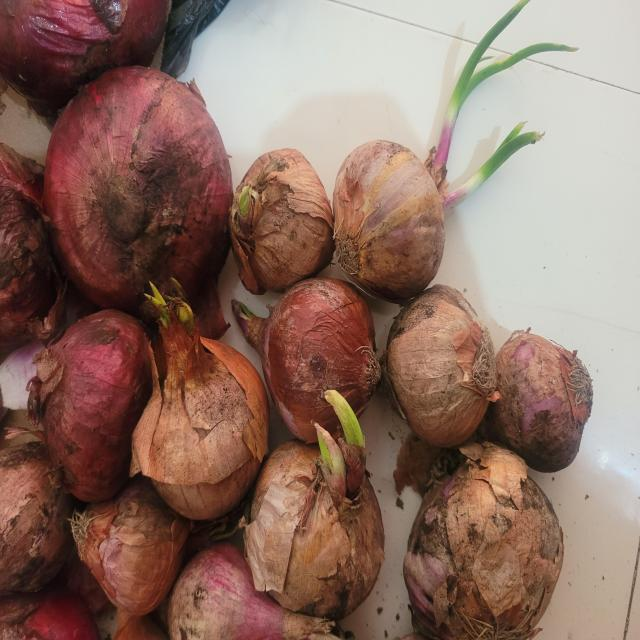rotten: (44, 67, 233, 314), (130, 280, 269, 519), (403, 442, 564, 640), (244, 418, 384, 618), (232, 277, 380, 442), (29, 310, 152, 501), (0, 0, 169, 117), (381, 284, 500, 447), (72, 476, 189, 616), (168, 542, 335, 640), (230, 148, 334, 295), (488, 329, 593, 472), (0, 143, 66, 347), (0, 441, 73, 592)
sprouting: (333, 0, 577, 303)
